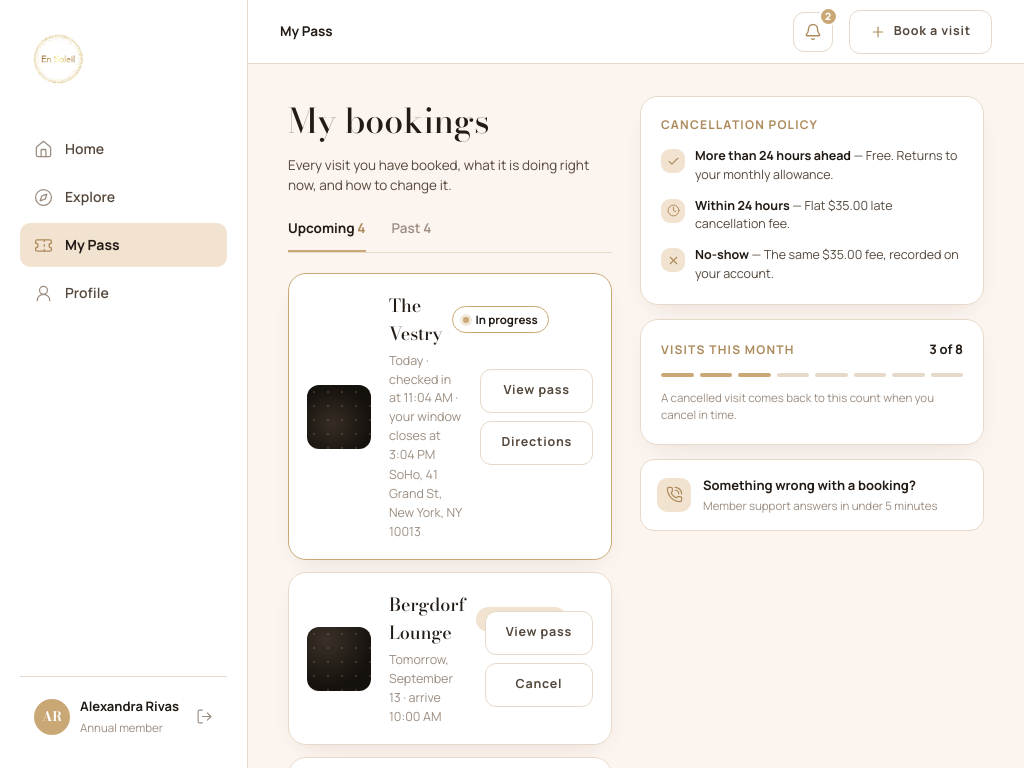
Scenario: cancelar una reserva dentro de las 24 horas › abre el diálogo con la tarifa plana y, al confirmar, cobra la tarifa y la quita de Upcoming
Click the button "Cancel": (539, 685) 485,663 -> 593,707
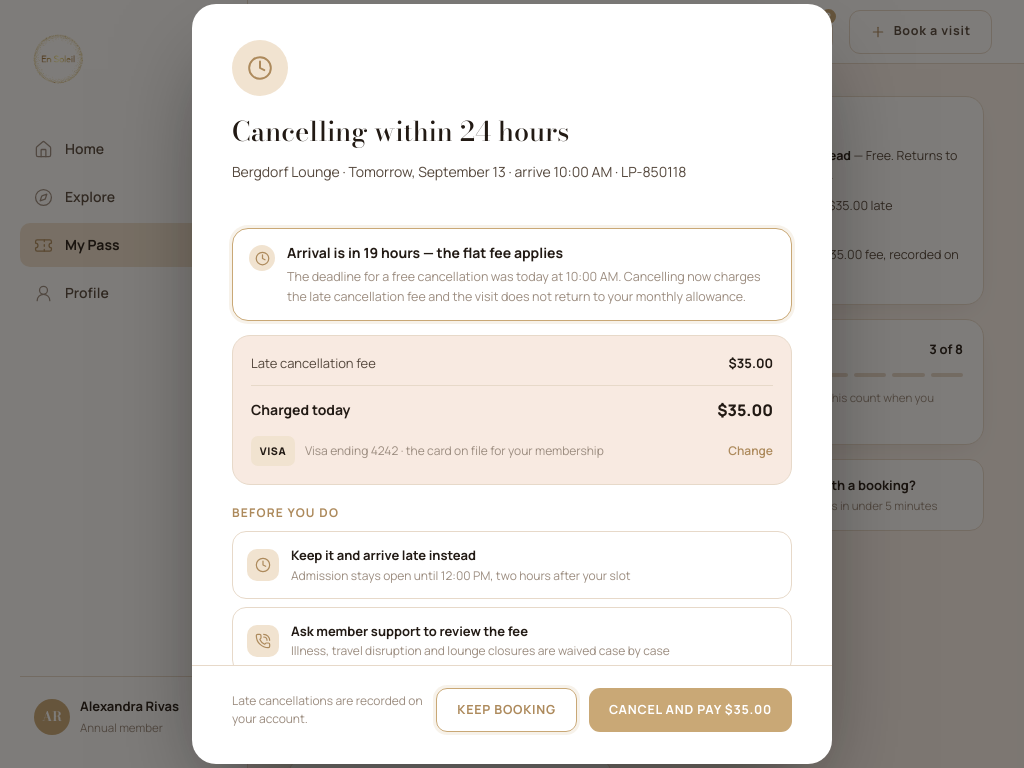
Expected: the heading "Cancelling within 24 hours" is shown, 232,111 -> 569,152
Expected: the 1st text "$35.00" is shown, 729,354 -> 773,373
Click the button "Cancel and pay $35.00": (690, 710) 589,688 -> 792,732
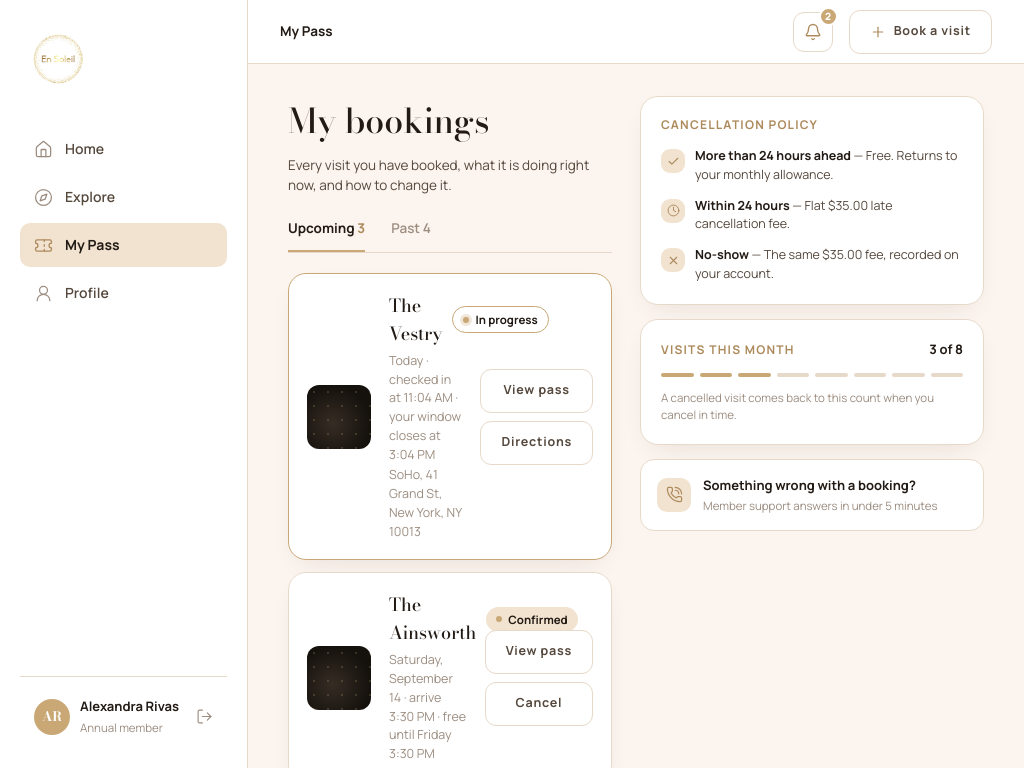
Expected: the heading "Bergdorf Lounge" is gone
